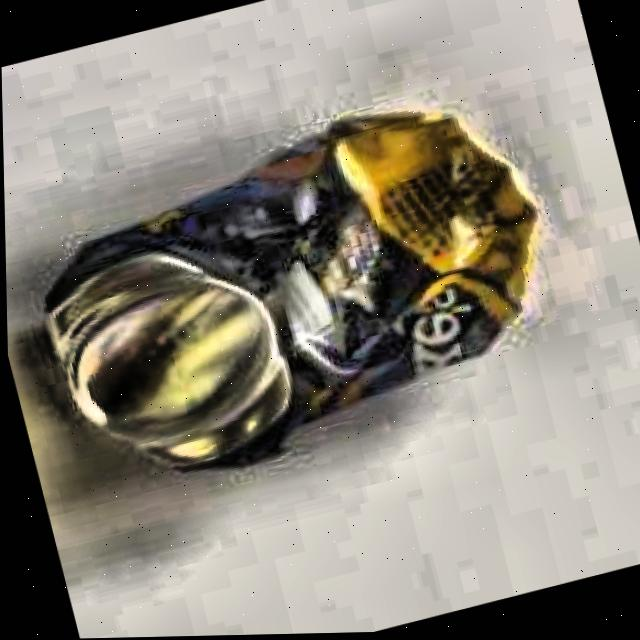metal: (38, 103, 547, 472)
